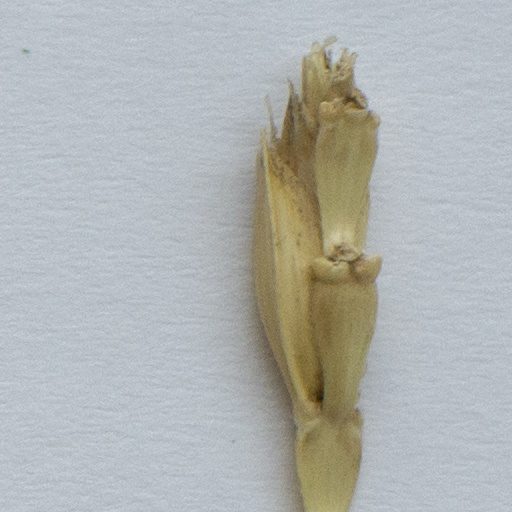Peel-poly: (255, 42, 377, 511)
